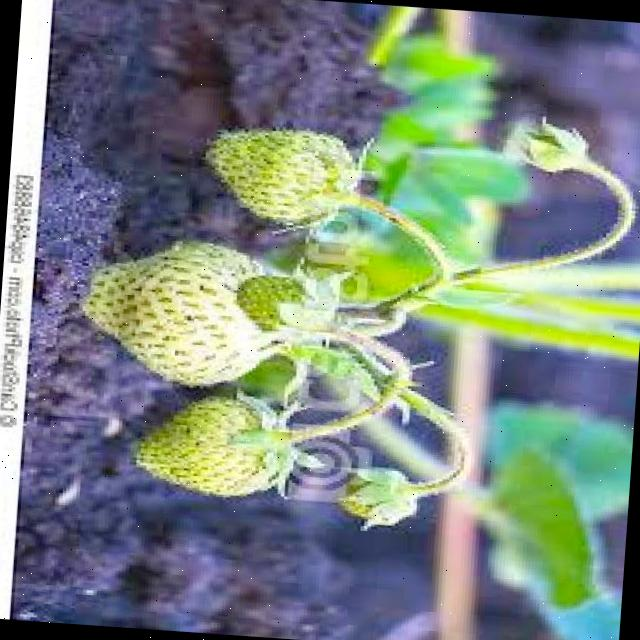strawberry: (79, 232, 292, 390), (130, 390, 302, 499), (203, 122, 354, 224), (237, 270, 332, 342)
